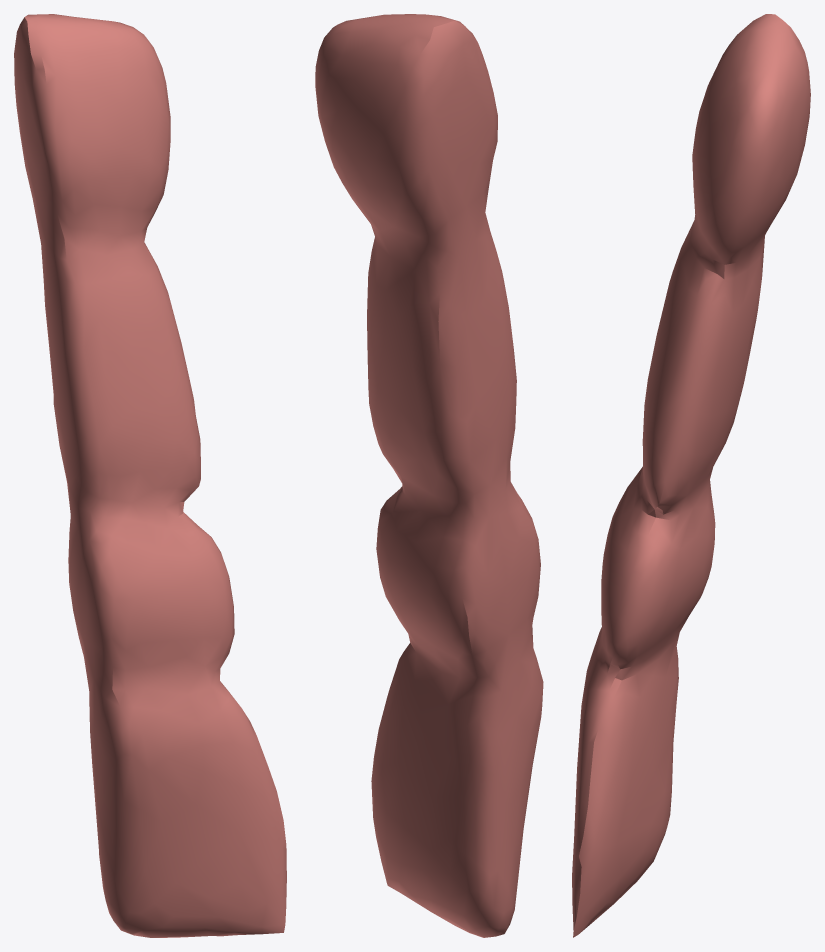
The model's file is fma48730-n_mm4013m.glb.
The picture shows the model from 3 angles, left to right: view 1: azimuth 30°, elevation 25°; view 2: azimuth 150°, elevation 25°; view 3: azimuth 270°, elevation 25°; orthographic projection. The views are drawn at different scales.
Parts seen in each view (by area): view 1: FMA48730-N_MM4013M; view 2: FMA48730-N_MM4013M; view 3: FMA48730-N_MM4013M.
Boxes of the visible parts, x1,y1,x2,y2 form: FMA48730-N_MM4013M: (14,14,286,937); FMA48730-N_MM4013M: (315,14,543,937); FMA48730-N_MM4013M: (572,14,810,937).
Bounding box in the file's own units: 0.0191 × 0.0914 × 0.0233.
